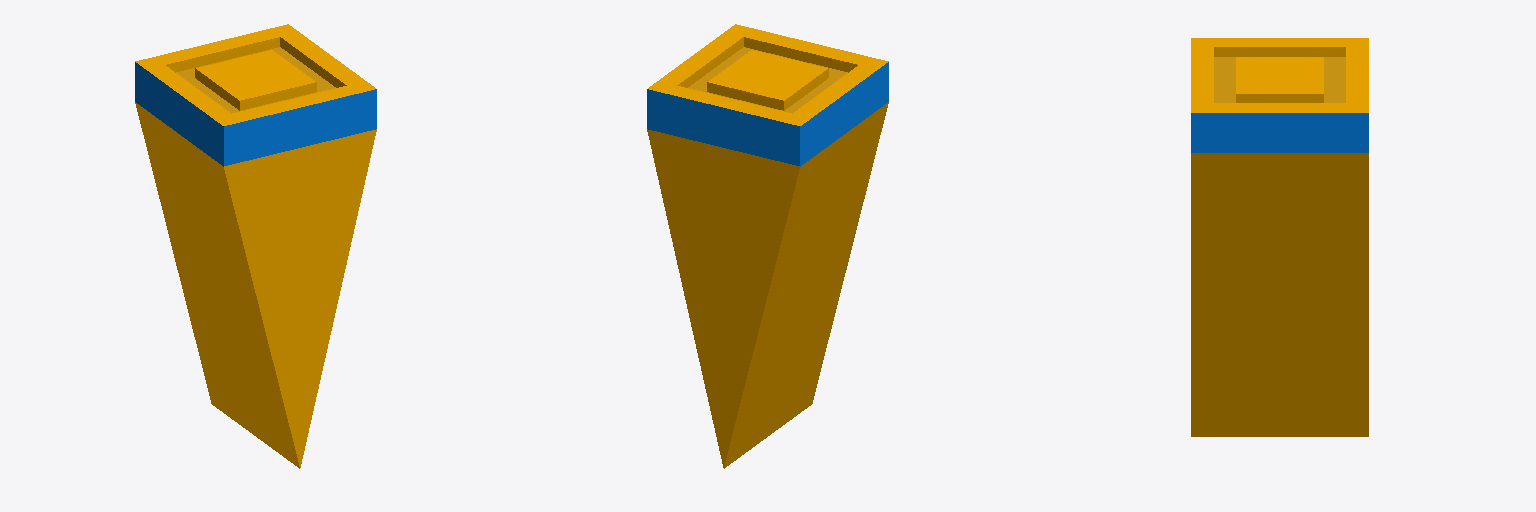
The model's file is EnemyAgent.obj.
The picture shows the model from 3 angles: view 1: azimuth 30°, elevation 25°; view 2: azimuth 150°, elevation 25°; view 3: azimuth 270°, elevation 25°; orthographic projection.
Visible parts, largest first — view 1: EnemyAgent; view 2: EnemyAgent; view 3: EnemyAgent.
Part boxes in pixels (x1,y1,x2,y2): EnemyAgent: (135, 24, 376, 468); EnemyAgent: (647, 24, 888, 468); EnemyAgent: (1191, 38, 1368, 436).
Bounding box in the file's own units: 1 × 2.25 × 1.